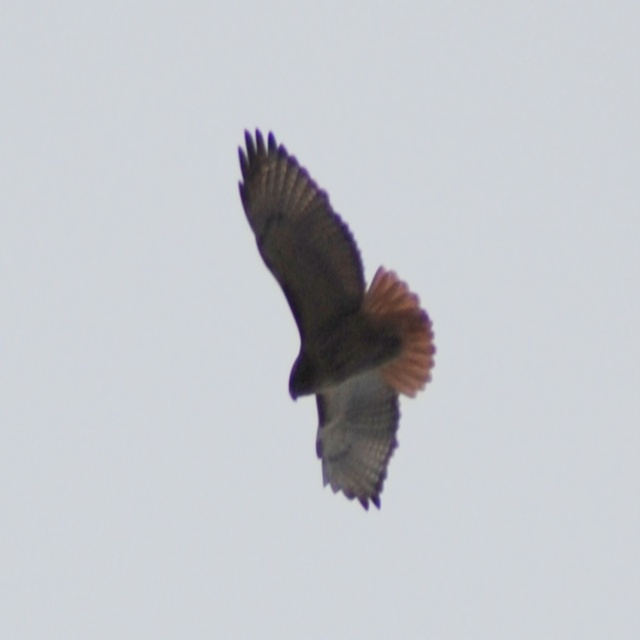Eagle: (237, 122, 443, 515)
